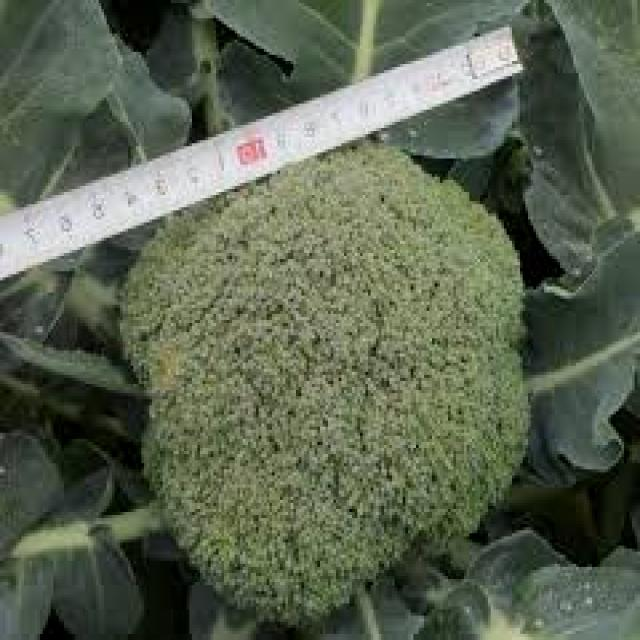broccoli: (100, 125, 579, 611)
